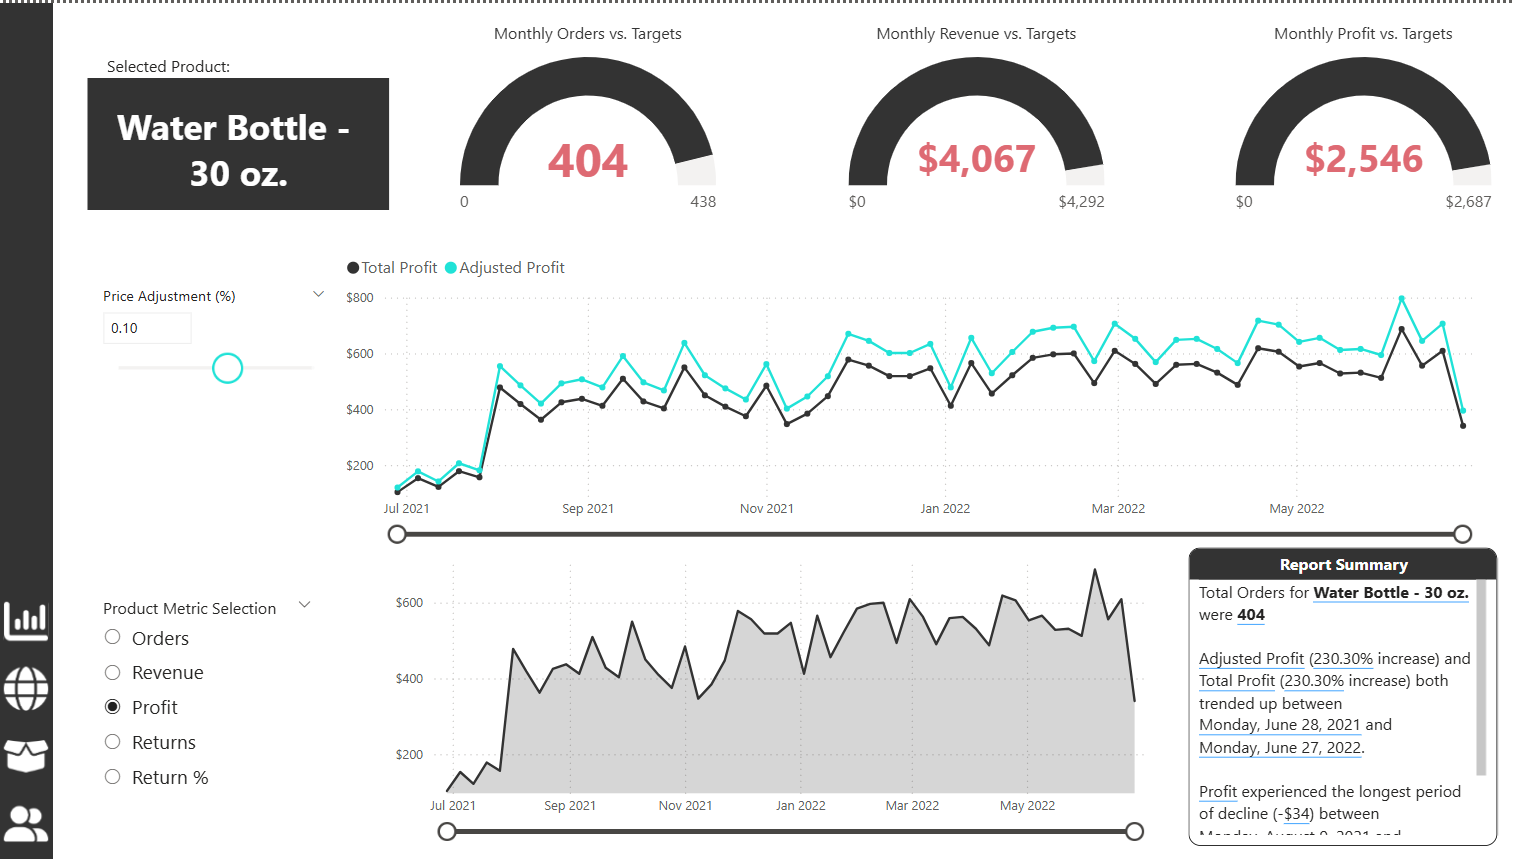

This screenshot's page, from the dashboard's own definition file:
{"tool":"powerbi","page":{"name":"Product Detail","canvas":[1280,720],"ordinal":2},"visuals":[{"type":"shape","box":[0,0,45,720],"z":0},{"type":"actionButton","box":[0,488.8,45,52.5],"z":1000,"group":"g1"},{"type":"gauge","title":"Monthly Orders vs. Targets","fields":{"Y":["Measure Table.Total Orders"],"MaxValue":["Measure Table.Order Target"]},"box":[378.8,15,223.8,176.2],"z":1000},{"type":"gauge","title":"Monthly Revenue vs. Targets","fields":{"Y":["Measure Table.Total Revenue"],"MaxValue":["Measure Table.Revenue Target"]},"box":[701.9,15,223.8,176.2],"z":2000},{"type":"actionButton","box":[0,545,45,52.5],"z":2000,"group":"g1"},{"type":"gauge","title":"Monthly Profit vs. Targets","fields":{"Y":["Measure Table.PROFIT"],"MaxValue":["Measure Table.Profit Target"]},"box":[1025,15,223.8,176.2],"z":3000},{"type":"actionButton","box":[0,601.3,45,52.5],"z":3000,"group":"g1"},{"type":"actionButton","box":[0,657.6,45,52.5],"z":4000,"group":"g1"},{"type":"lineChart","title":"Profit Trending","fields":{"Category":["Calendar Lookup.Year","Calendar Lookup.Date Hierarchy.Start of Month","Calendar Lookup.Date Hierarchy.Start of Week","Calendar Lookup.Date Hierarchy.Date"],"Y":["Measure Table.Total Profit","Measure Table.Adjusted Profit"]},"box":[283.8,200,965,253.8],"z":4000},{"type":"areaChart","title":"Return Trending","fields":{"Y":["Measure Table.Total Profit"],"Category":["Calendar Lookup.Year","Calendar Lookup.Date Hierarchy.Start of Month","Calendar Lookup.Date Hierarchy.Start of Week","Calendar Lookup.Date Hierarchy.Date"]},"box":[325,453.8,650,247.5],"z":5000},{"type":"card","fields":{"Values":["Min(Product Lookup.ProductName)"]},"box":[73.8,62.5,251.2,110],"z":6000},{"type":"textbox","box":[85,37.5,151.2,46.2],"z":7000},{"type":"group","id":"g1","title":"Navigation Buttons","box":[0,488.8,45,221.2],"z":8000},{"type":"slicer","fields":{"Values":["Price Adjustment (%).Price Adjustment (%)"]},"box":[73.8,230,210,108.8],"z":9000},{"type":"slicer","fields":{"Values":["Product Metric Selection .Product Metric Selection "]},"box":[73.8,488.8,198.8,181.2],"z":10000},{"type":"textbox","title":"Report Summary","box":[991.2,453.8,257.5,248.8],"z":11000}]}

Visuals, with their boxes on the page's 1280x720 design canvas (x1, y1, x2, y2). These are canvas units, not pixel positions in the 1514x859 screenshot, which may show the page scaled, cropped or inside an application window:
shape: (x1=0, y1=0, x2=45, y2=720)
actionButton: (x1=0, y1=489, x2=45, y2=541)
"Monthly Orders vs. Targets" gauge: (x1=379, y1=15, x2=603, y2=191)
"Monthly Revenue vs. Targets" gauge: (x1=702, y1=15, x2=926, y2=191)
actionButton: (x1=0, y1=545, x2=45, y2=598)
"Monthly Profit vs. Targets" gauge: (x1=1025, y1=15, x2=1249, y2=191)
actionButton: (x1=0, y1=601, x2=45, y2=654)
actionButton: (x1=0, y1=658, x2=45, y2=710)
"Profit Trending" lineChart: (x1=284, y1=200, x2=1249, y2=454)
"Return Trending" areaChart: (x1=325, y1=454, x2=975, y2=701)
card - Min(Product Lookup.ProductName): (x1=74, y1=62, x2=325, y2=172)
textbox: (x1=85, y1=38, x2=236, y2=84)
"Navigation Buttons" group: (x1=0, y1=489, x2=45, y2=710)
slicer - Price Adjustment (%).Price Adjustment (%): (x1=74, y1=230, x2=284, y2=339)
slicer - Product Metric Selection .Product Metric Selection : (x1=74, y1=489, x2=273, y2=670)
"Report Summary" textbox: (x1=991, y1=454, x2=1249, y2=703)
